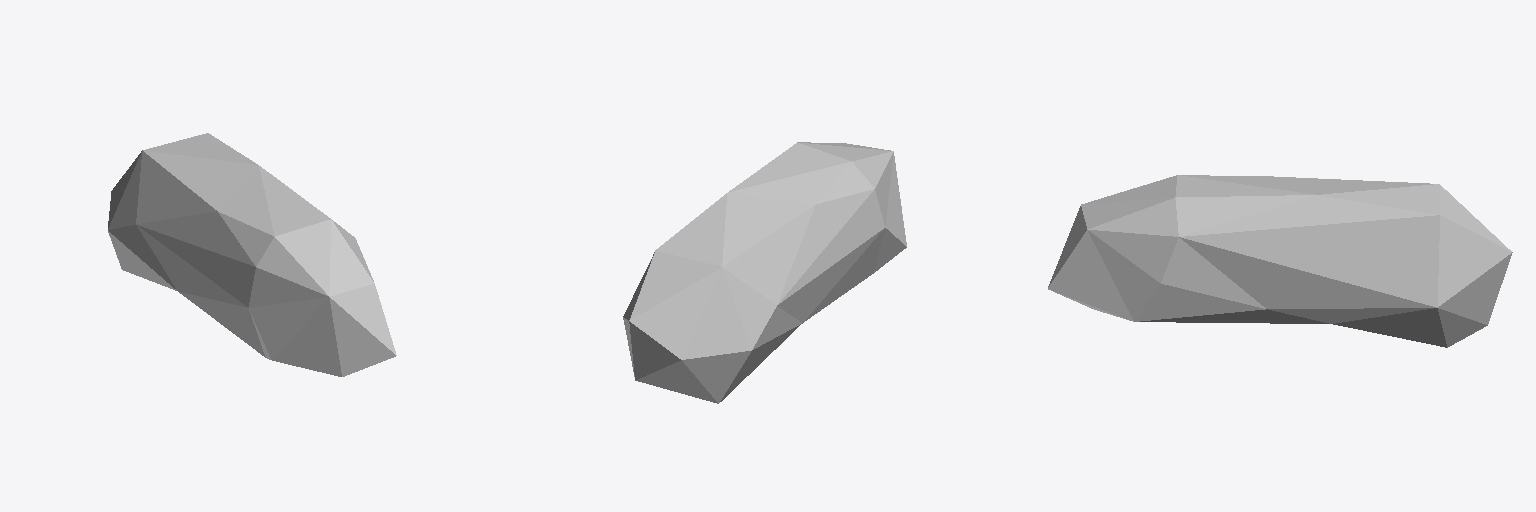
File: sim_ecub_1-1_l_hand_index_3.obj
3 views of the same model, side by side, from view 1: azimuth 30°, elevation 25°; view 2: azimuth 150°, elevation 25°; view 3: azimuth 270°, elevation 25° (orthographic).
Size of the model in its own units: 18.75 by 19.4 by 57.02.